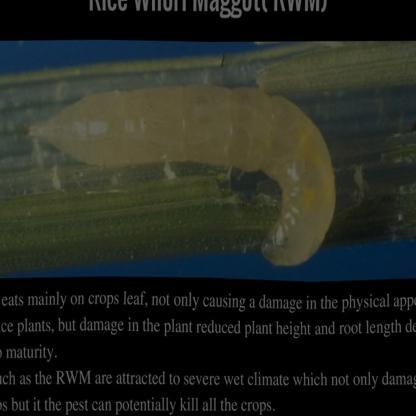whorl-maggot: (16, 74, 339, 266)
